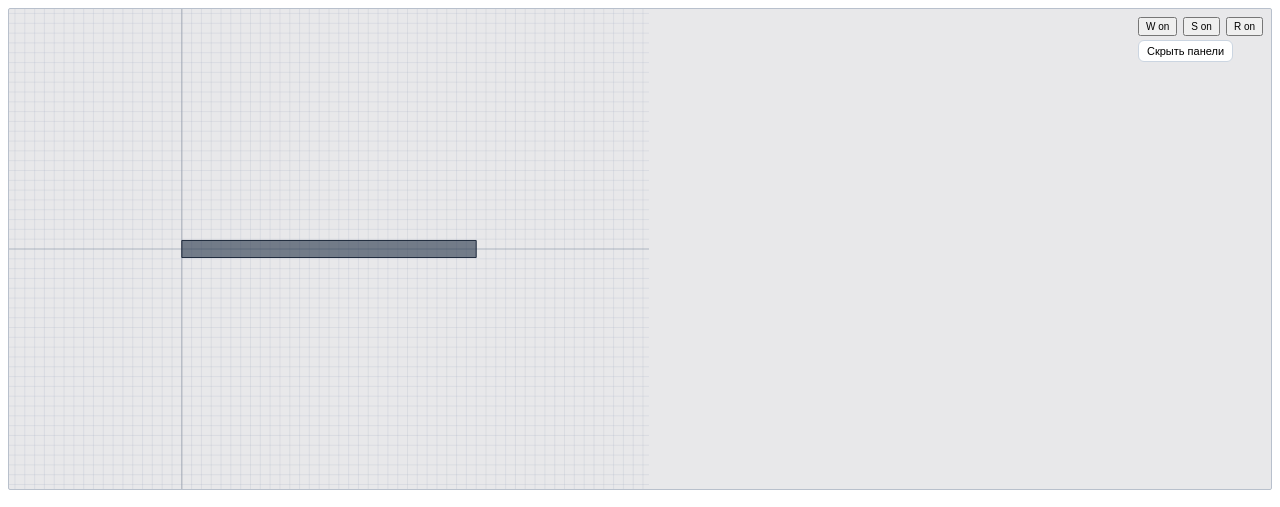
Test: panel overlay toggle › toggles panel overlay visibility button
Click the button "Скрыть панели": (1186, 51) x1=1138 y1=40 x2=1233 y2=62
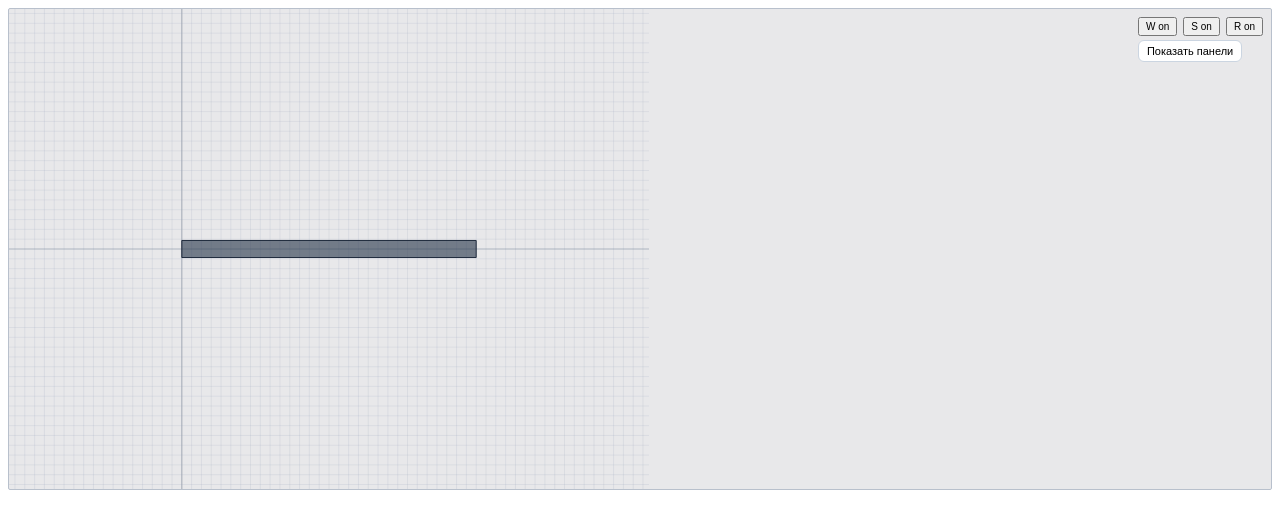
Check: the button "Показать панели" is shown, box x1=1138 y1=40 x2=1242 y2=62
